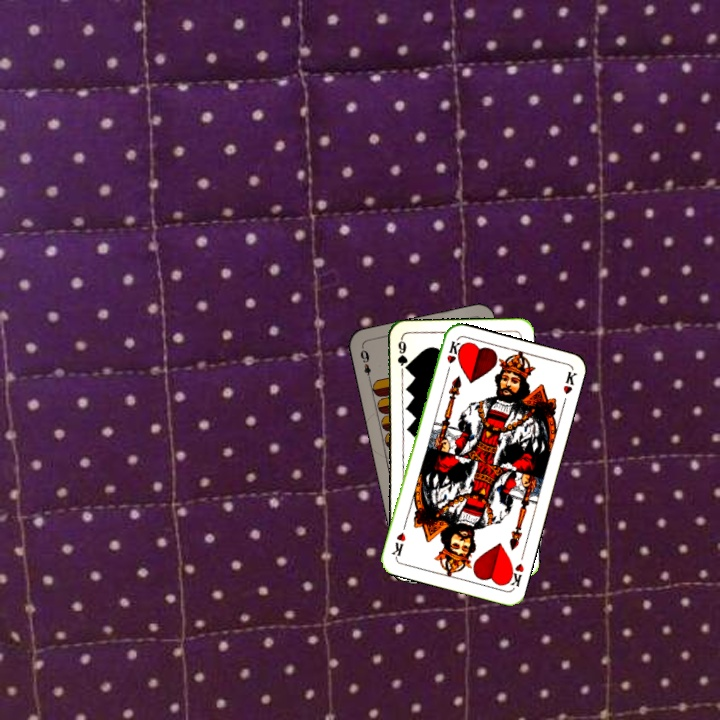E9: (356, 344, 373, 384)
G9: (394, 335, 409, 376)
HK: (442, 337, 463, 377), (502, 559, 526, 589)
